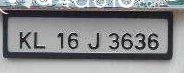1: (57, 32, 65, 49)
3: (134, 32, 147, 50), (107, 32, 120, 49)
6: (147, 32, 160, 51), (66, 32, 80, 49), (121, 32, 134, 50)
J: (86, 32, 102, 50)
K: (18, 31, 34, 49)
L: (32, 31, 47, 49)
